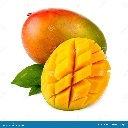mango: (21, 7, 107, 70), (41, 37, 110, 109)
